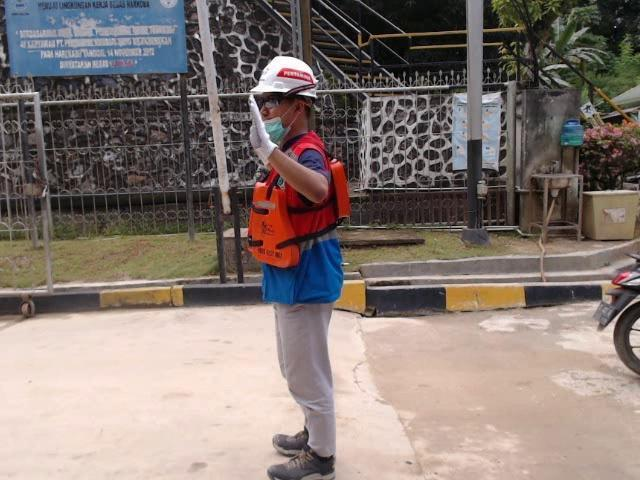vest: (244, 160, 356, 269)
